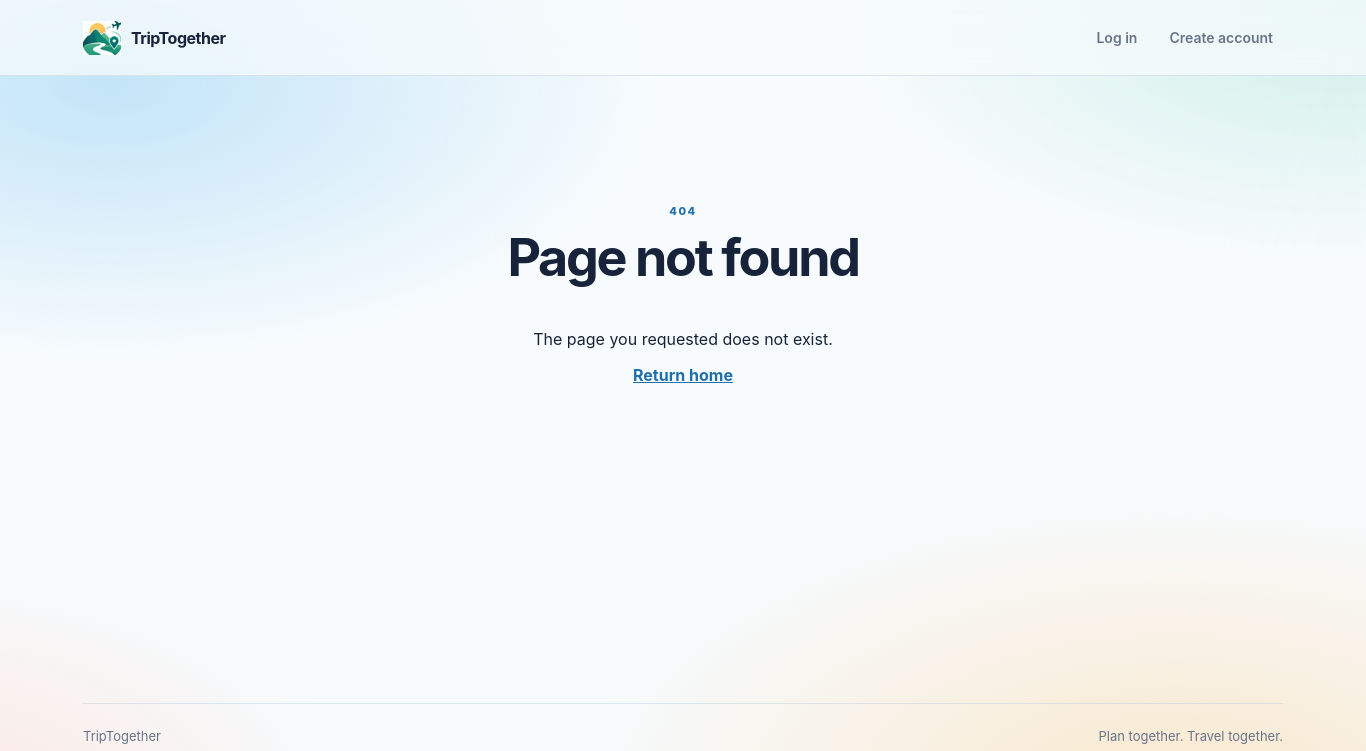
Application › shows Not Found and navigates home without a full reload
Expected: the heading "Page not found" is shown, 507,226 -> 859,289
Click the link "Return home" at (683, 375), box 633,365 -> 733,385
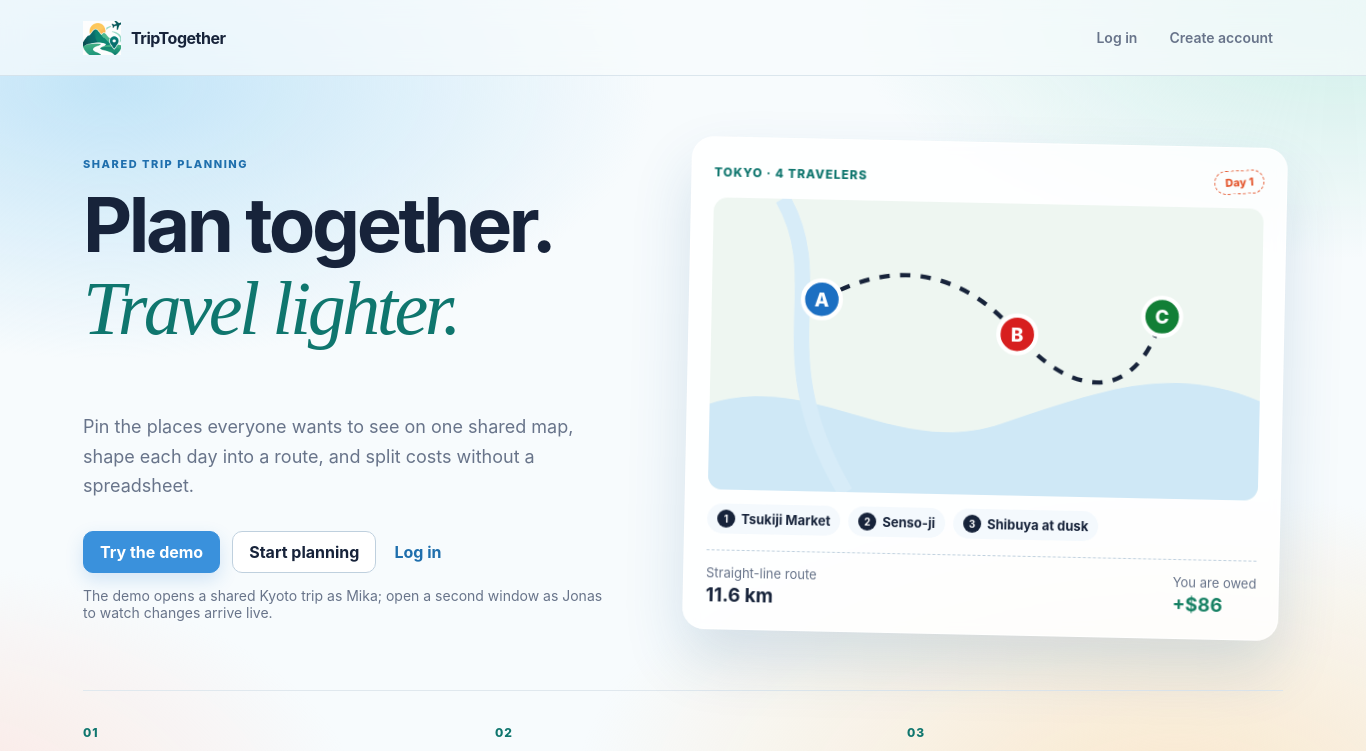
Now the heading "Plan together.Travel lighter." is shown, box 83,183 -> 623,349
